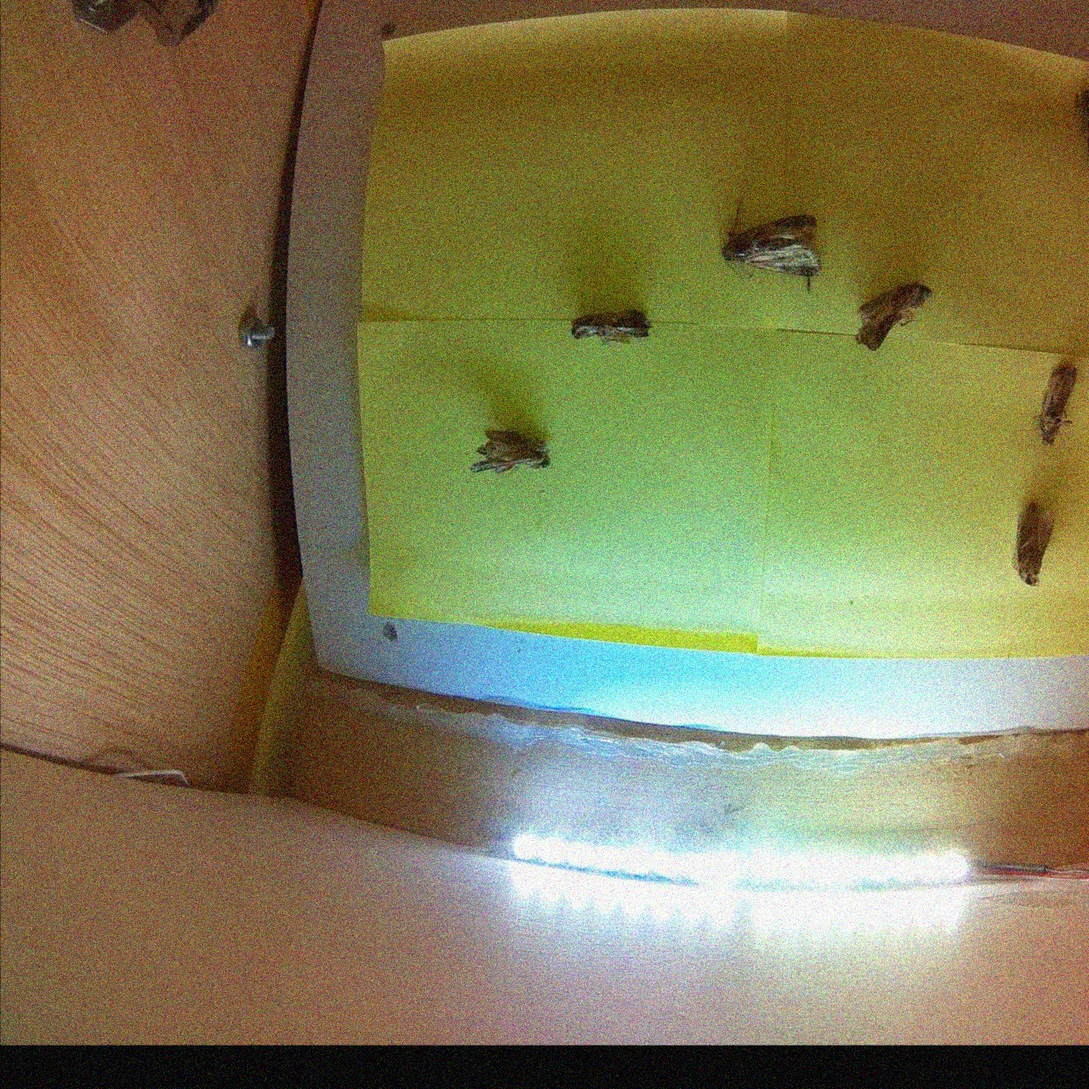Spodoptera litura: (718, 200, 821, 292), (852, 284, 932, 351), (470, 430, 551, 476), (1014, 502, 1058, 586), (1037, 362, 1077, 448), (571, 311, 653, 345)
